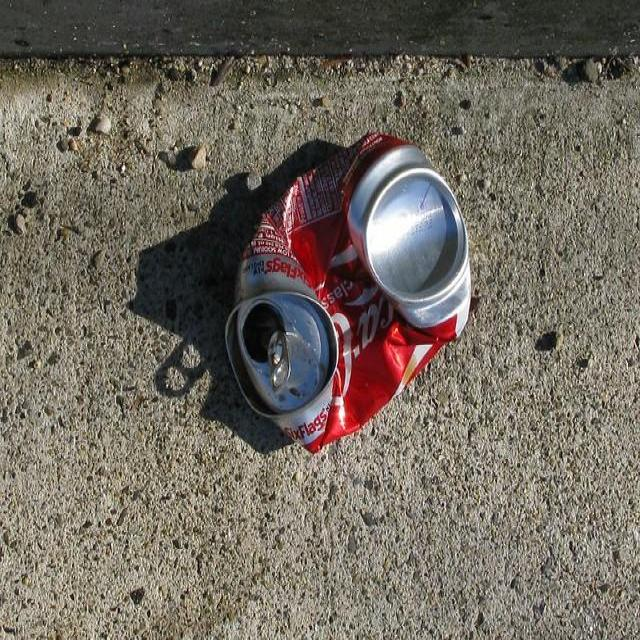can: (224, 134, 472, 458)
pop tab: (268, 328, 291, 393)
